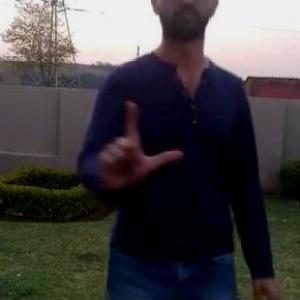land_hand: (91, 90, 178, 202)
